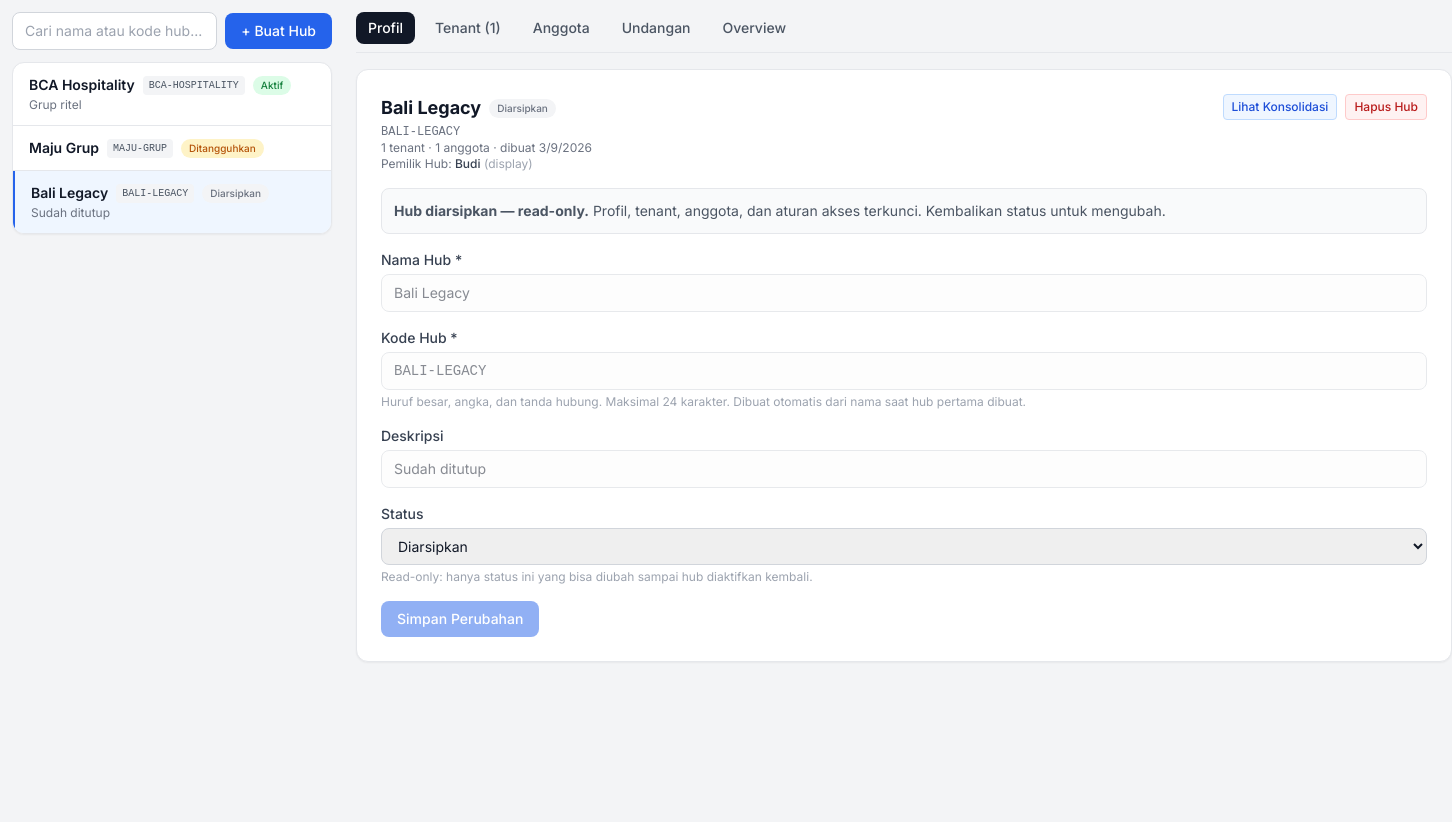
HubsSection › locks an archived hub: read-only notice, frozen fields, and no tenant/member mutations
Expected: the text "Hub diarsipkan — read-only." is shown, [394,202,589,219]
Expected: the field labelled "Nama Hub *" is disabled, [381,274,1427,312]
Click the button "Tenant (1)": (468, 28) [423,12,513,44]
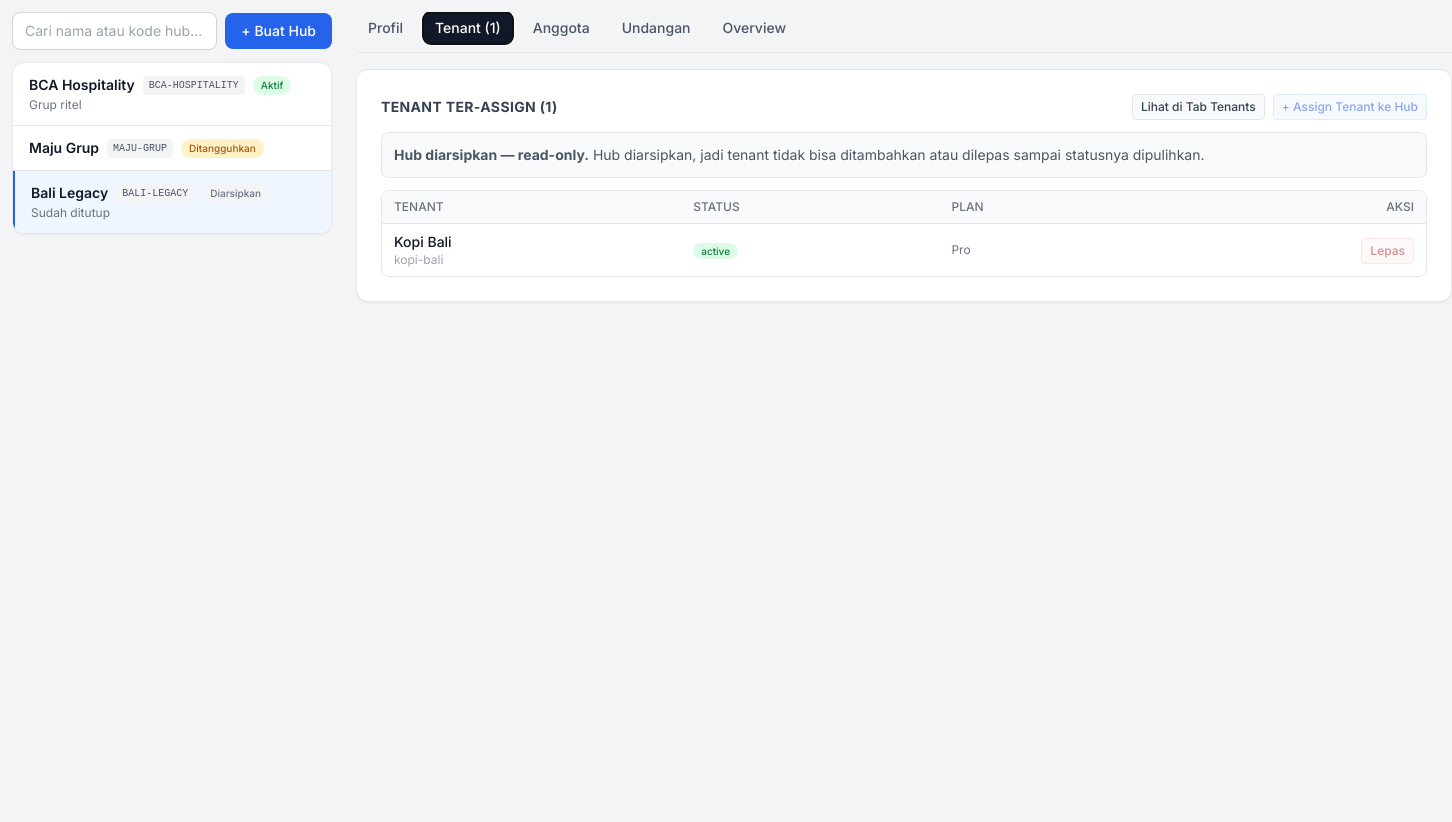
Result: the button "+ Assign Tenant ke Hub" is disabled at [1273,94,1427,120]
Result: the button "Lepas" is disabled at [1361,238,1414,264]
Click the button "Anggota": (561, 28) [521,12,602,44]
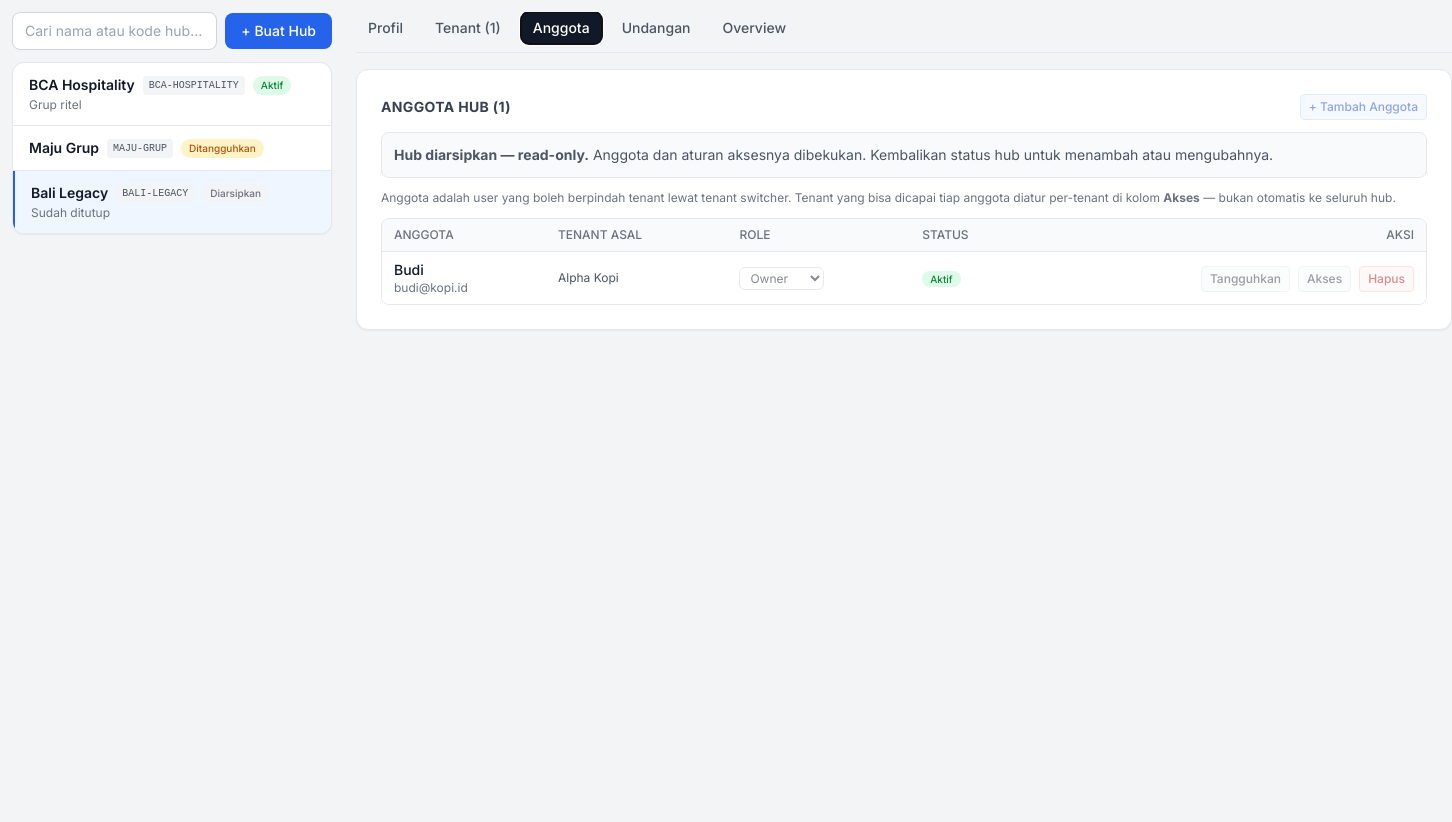
Result: the button "+ Tambah Anggota" is disabled at [1300,94,1427,120]
Result: the button "Akses" is disabled at [1298,266,1351,292]
Result: the button "Hapus" is disabled at [1359,266,1414,292]
